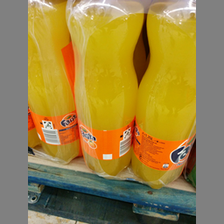soda: (65, 1, 144, 175), (132, 1, 195, 191), (28, 1, 81, 163)
